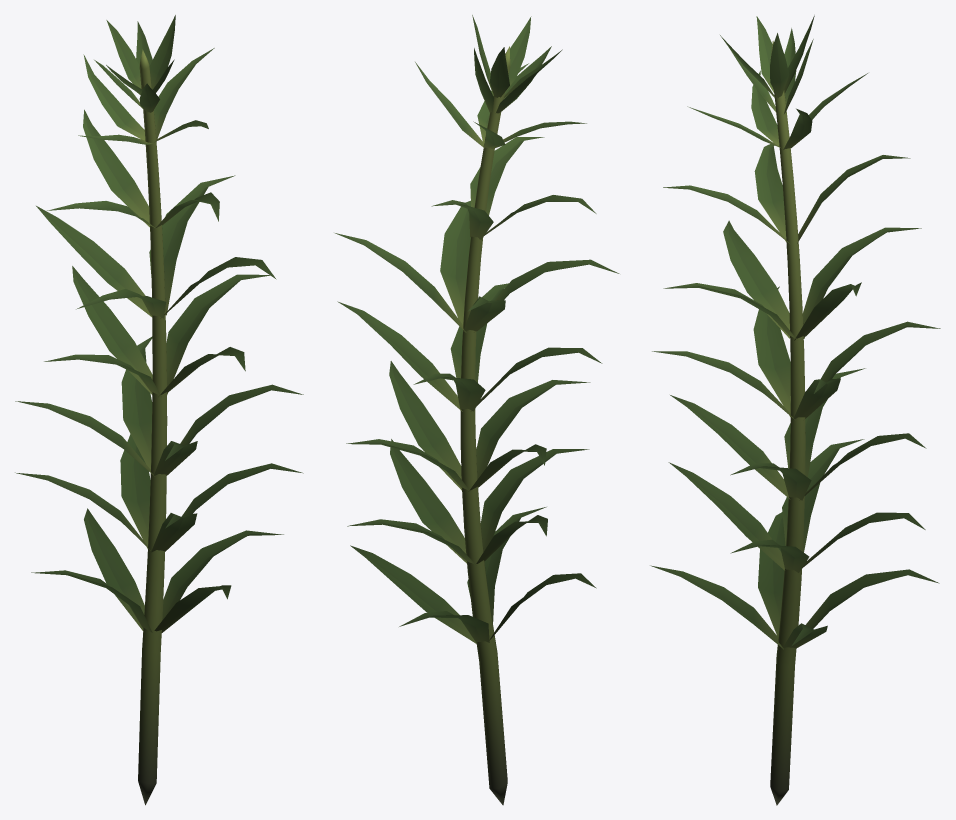
The model's file is underwater-aquatic-plants-waterweed_v7.fbx.
3 renders of one model, left to right at view 1: azimuth 30°, elevation 25°; view 2: azimuth 150°, elevation 25°; view 3: azimuth 270°, elevation 25°, orthographic.
Parts seen in each view (by area): view 1: Waterweed_v7; view 2: Waterweed_v7; view 3: Waterweed_v7.
Part boxes in pixels (x1=…): Waterweed_v7: x1=15, y1=15, x2=303, y2=805; Waterweed_v7: x1=335, y1=15, x2=619, y2=805; Waterweed_v7: x1=650, y1=15, x2=940, y2=805.
Size of the model in its own units: 0.2023 by 0.6 by 0.202.
